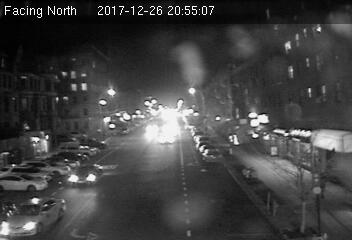car: (1, 195, 68, 237), (68, 166, 103, 184), (203, 147, 221, 161)
